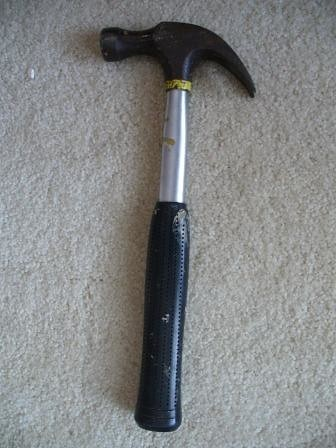hammer: (97, 19, 256, 433)
